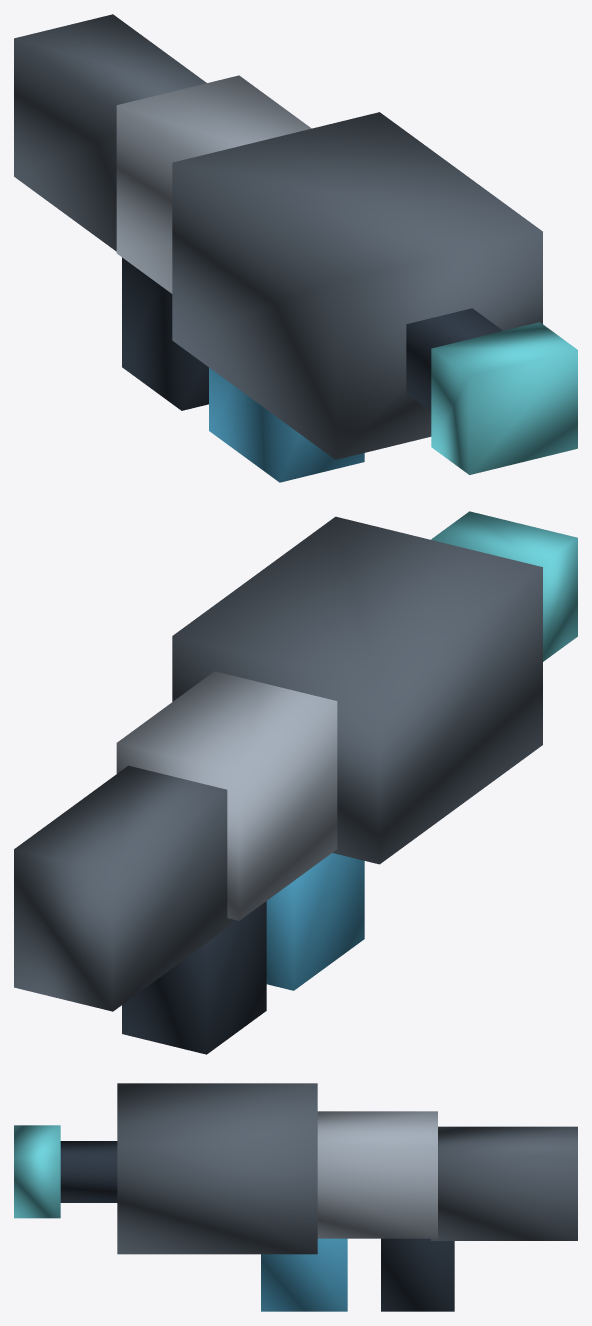
Rendered from stormhammer.glb.
3 renders of one model, top to bottom at view 1: azimuth 30°, elevation 25°; view 2: azimuth 150°, elevation 25°; view 3: azimuth 270°, elevation 25°, orthographic. The views are drawn at different scales.
Parts seen in each view (by area): view 1: Hardware; view 2: Hardware; view 3: Hardware.
Part boxes in pixels (x1,y1,x2,y2): Hardware: (14,14,577,482); Hardware: (14,511,577,1054); Hardware: (14,1083,577,1311).
Bounding box in the file's own units: 0.22 × 0.305 × 0.845.
